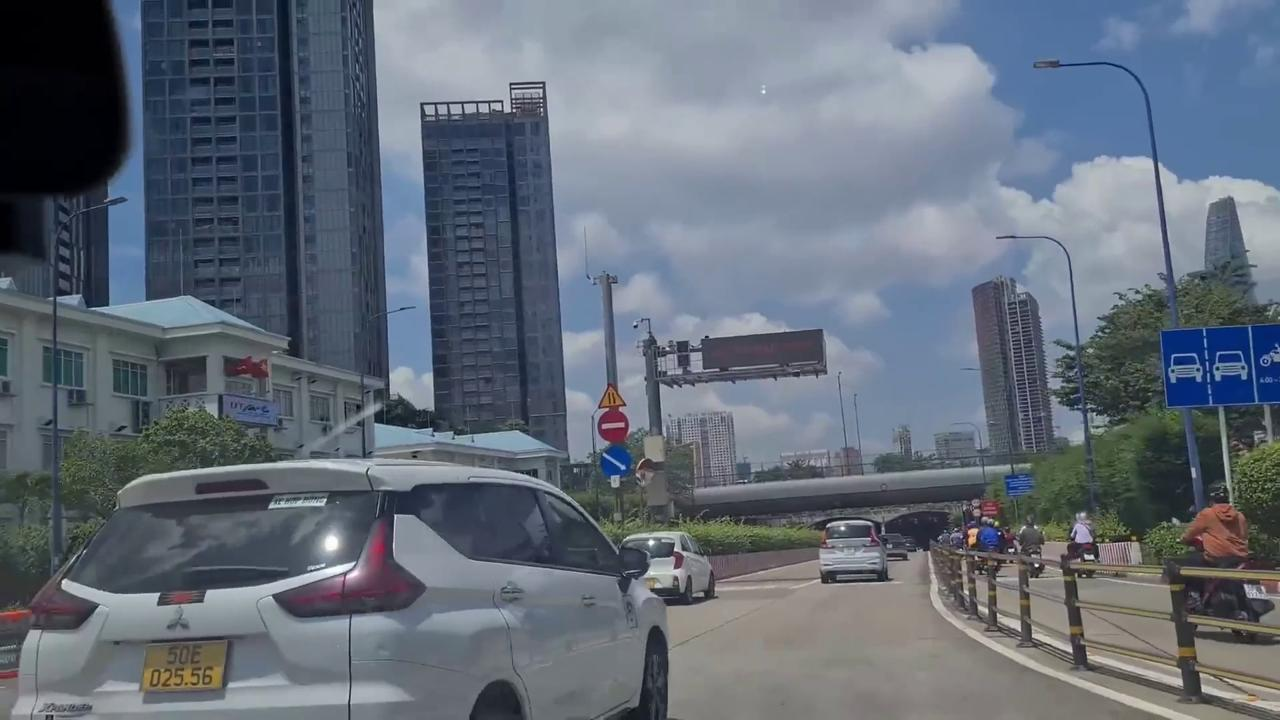Cấm đi ngược chiều: (596, 408, 632, 444)
Hướng phải đi vòng sang phải: (598, 445, 633, 479)
Làn đường cho từng xe: (1158, 322, 1280, 408)
Đuờng hẹp: (594, 383, 628, 409)
